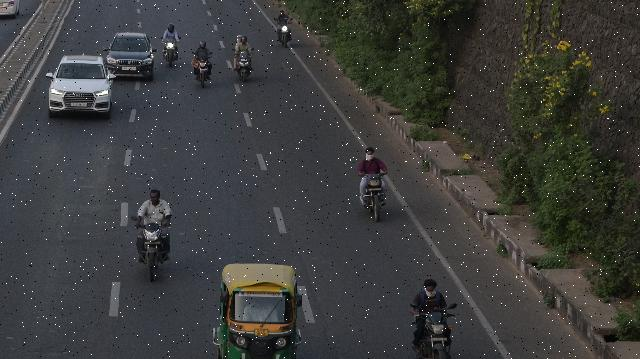With Helmet: (167, 24, 176, 34), (240, 36, 248, 44), (200, 40, 207, 48)
Without Helmet: (421, 277, 439, 293), (362, 146, 378, 160), (148, 188, 162, 202), (236, 34, 242, 42), (280, 11, 284, 17)
